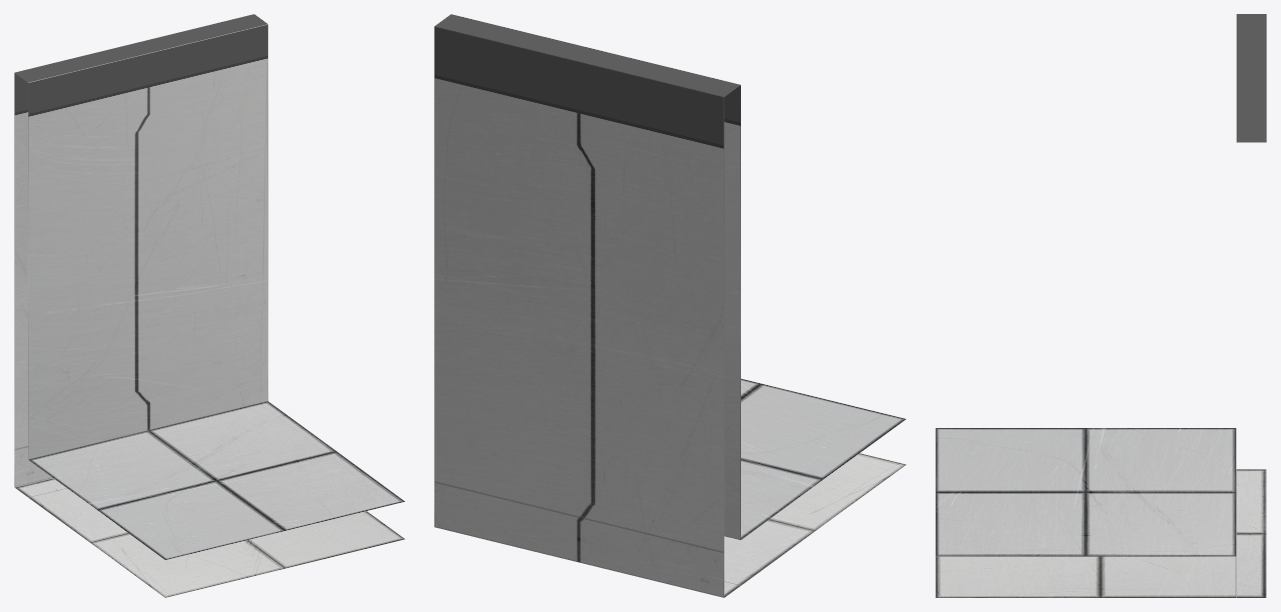
Rendered from Module_001_OuterW.fbx.
3 views of the same model, side by side, from view 1: azimuth 30°, elevation 25°; view 2: azimuth 150°, elevation 25°; view 3: azimuth 270°, elevation 25° (orthographic). The views are drawn at different scales.
Parts seen in each view (by area): view 1: Module_001_OuterW; view 2: Module_001_OuterW; view 3: Module_001_OuterW.
Part boxes in pixels (<box>): Module_001_OuterW: <box>14,14,404,597</box>; Module_001_OuterW: <box>434,14,906,597</box>; Module_001_OuterW: <box>935,14,1266,597</box>.
Bounding box in the file's own units: 200 × 330 × 218.
